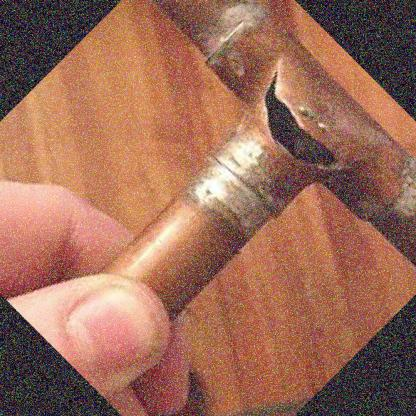burst: (252, 50, 356, 181)
